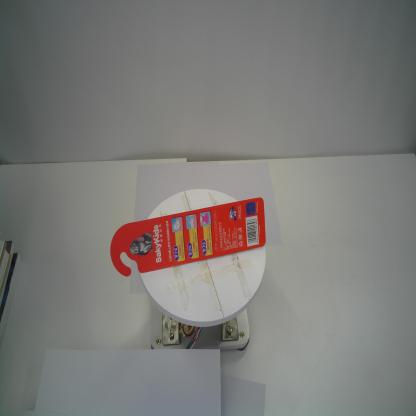Personal Hygiene: (110, 196, 266, 277)
